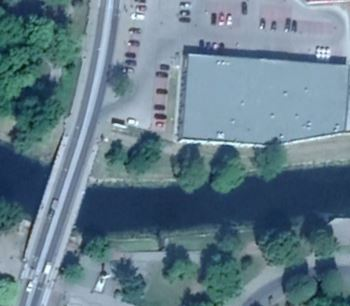shopping_center: (171, 43, 350, 158)
